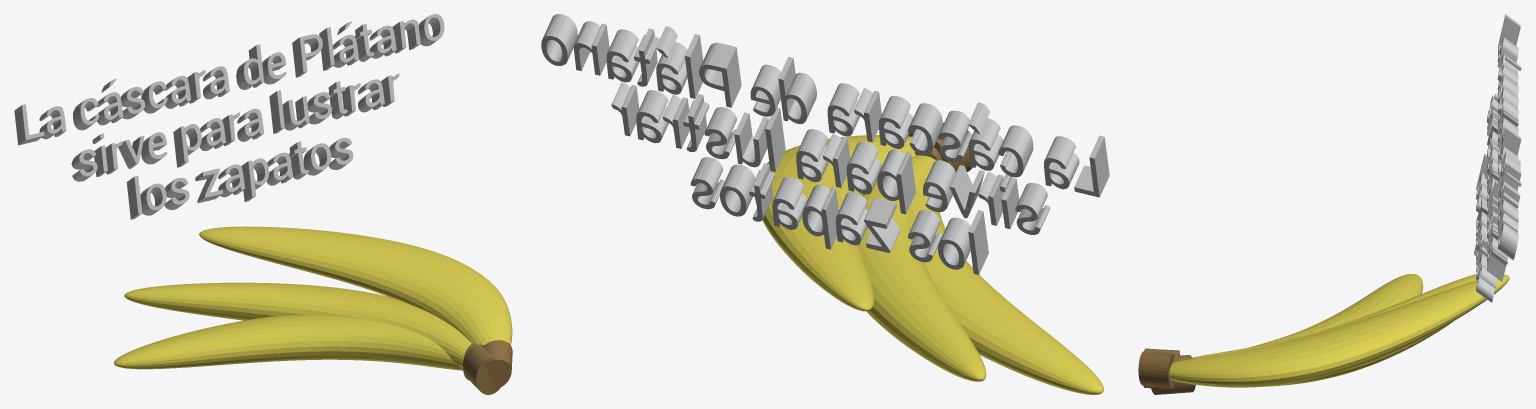
File: asset.glb
The picture shows the model from 3 angles, left to right: view 1: azimuth 30°, elevation 25°; view 2: azimuth 150°, elevation 25°; view 3: azimuth 270°, elevation 25°; orthographic projection. The views are drawn at different scales.
Parts seen in each view (by area): view 1: Mesh_Mesh_head_geo.001_lambert2SG.001; view 2: Mesh_Mesh_head_geo.001_lambert2SG.001; view 3: Mesh_Mesh_head_geo.001_lambert2SG.001.
Boxes of the visible parts, box(x1,y1,x2,y2) form: Mesh_Mesh_head_geo.001_lambert2SG.001: box(14, 14, 512, 394); Mesh_Mesh_head_geo.001_lambert2SG.001: box(541, 14, 1109, 394); Mesh_Mesh_head_geo.001_lambert2SG.001: box(1138, 14, 1521, 394).
Size of the model in its own units: 144 by 81 by 113.
